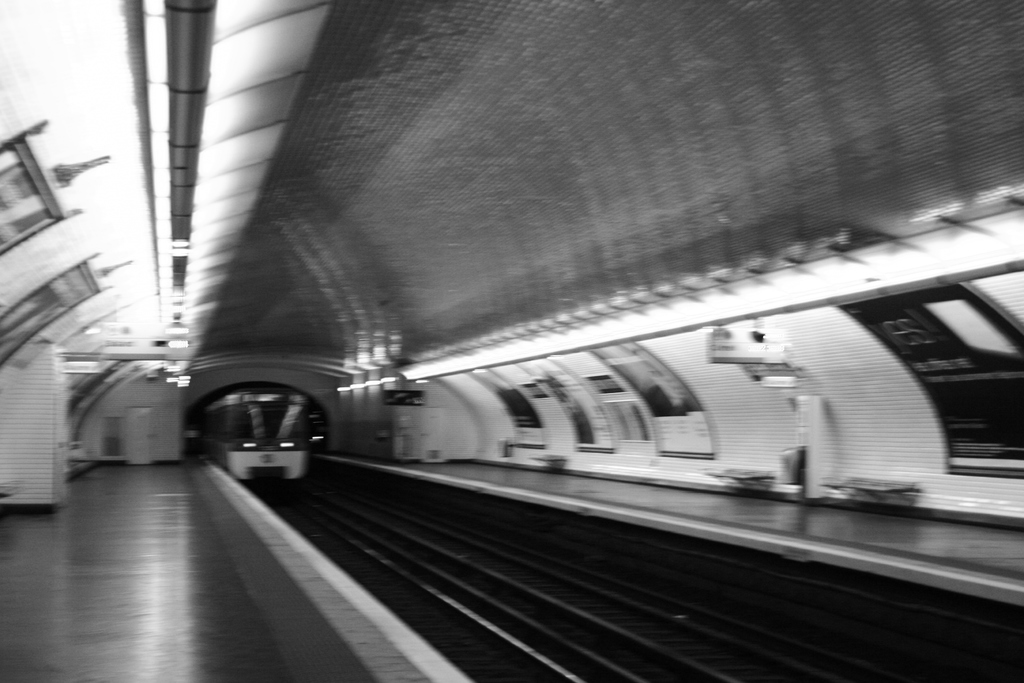train: (193, 381, 313, 483)
